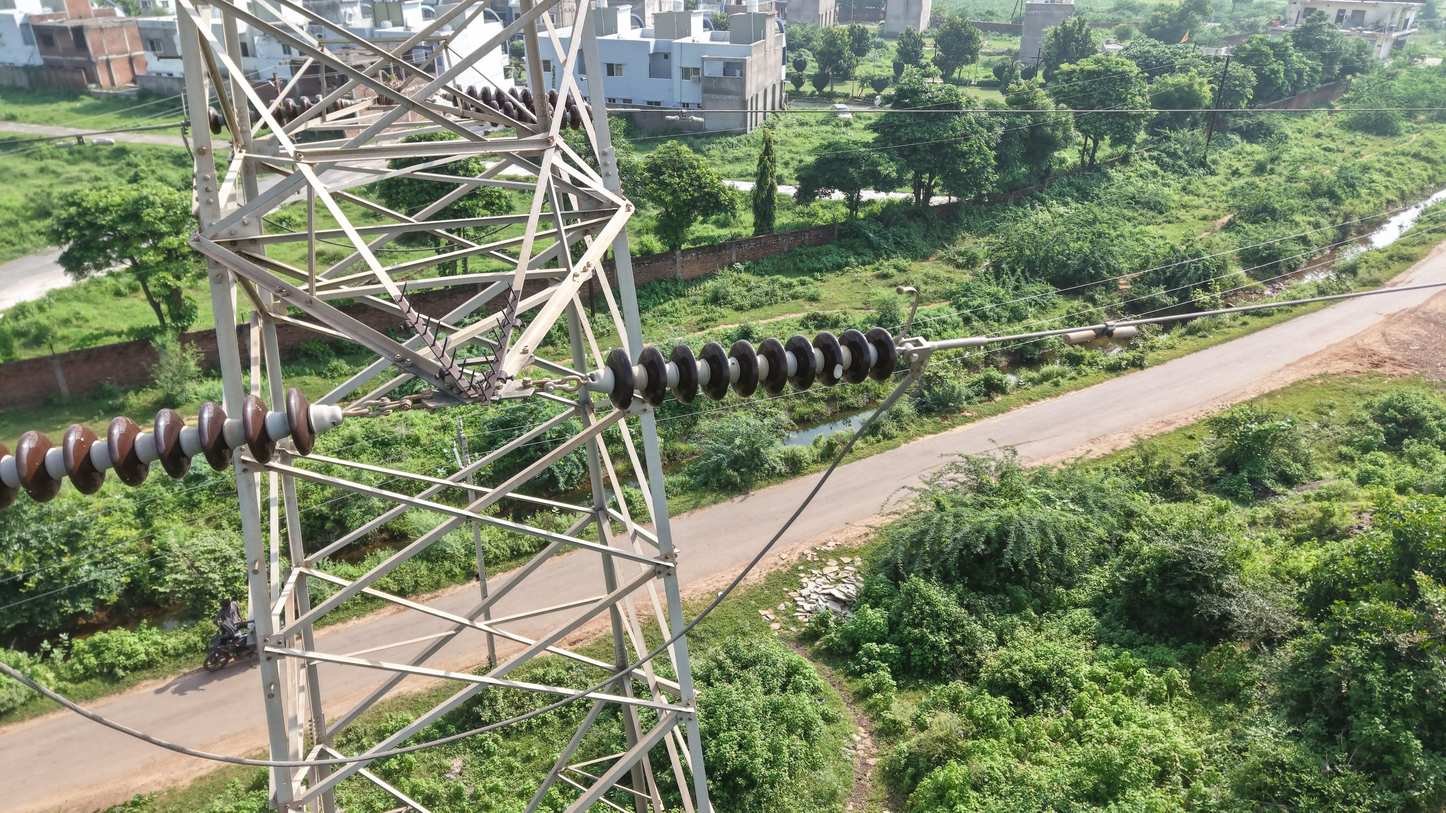broken_insulator: (812, 330, 851, 390)
